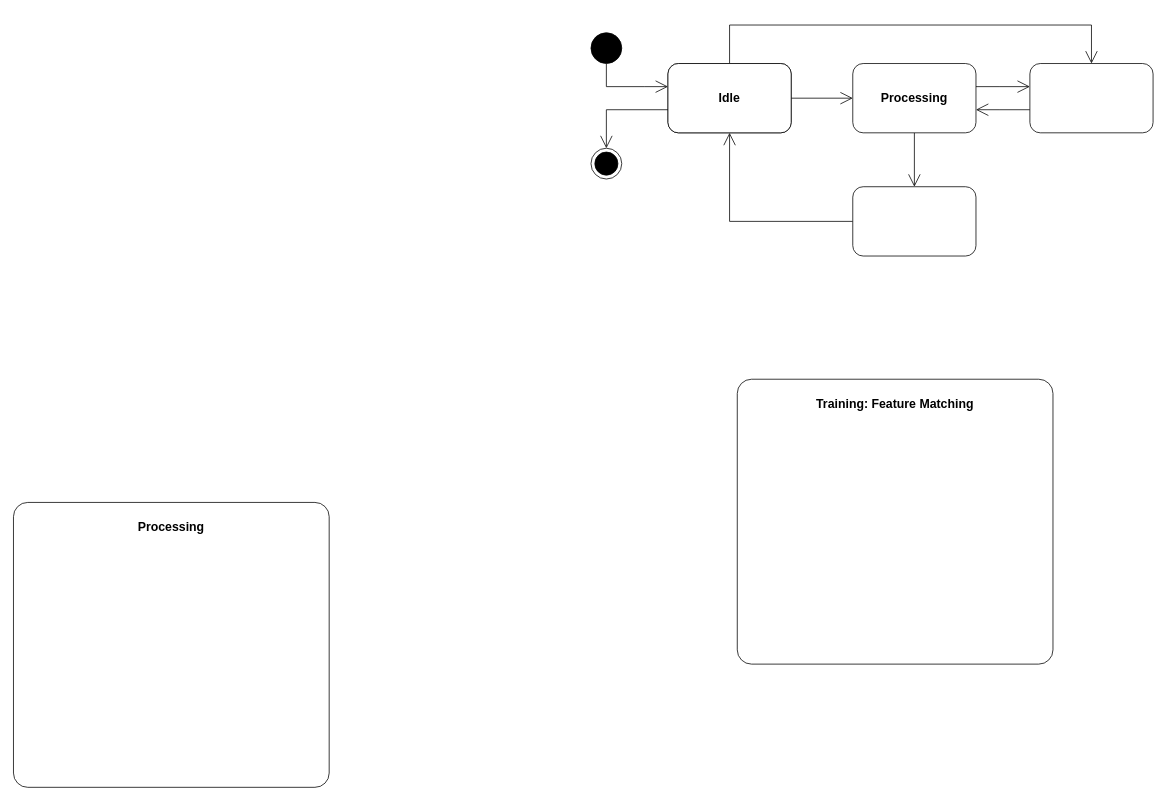
Image size: 1167x801. Some labels were removed from this diagram. The shapes that lost their labels are listed below. From the top down, each one's box as (x1, y1, x2, y2) in pixels, then its label:
(1029, 63, 1153, 133): File Reading
(852, 186, 976, 256): File Writing
